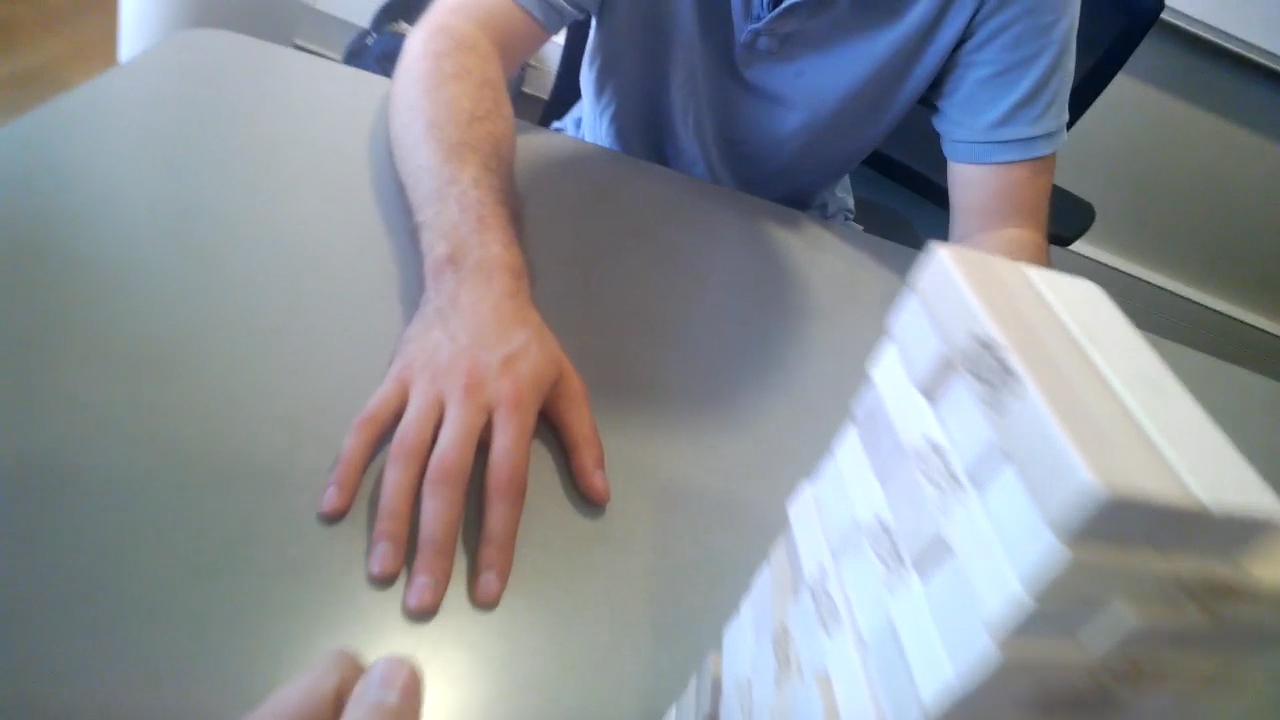hand: (326, 306, 607, 604), (246, 658, 419, 715)
